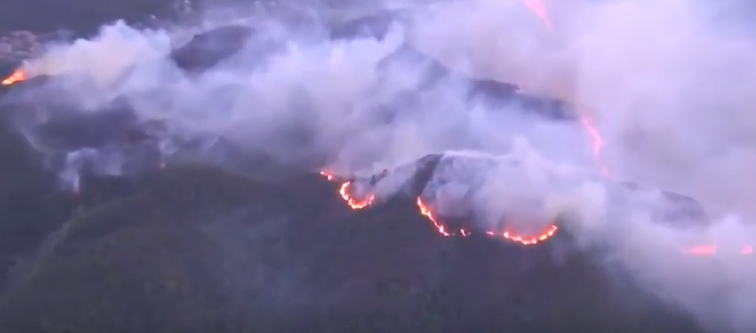山火: (413, 195, 472, 237), (319, 169, 375, 209), (579, 113, 612, 178), (484, 225, 558, 244), (520, 0, 554, 28), (672, 242, 716, 255), (0, 68, 27, 86), (738, 243, 753, 254)
烟雾: (0, 0, 755, 333)
